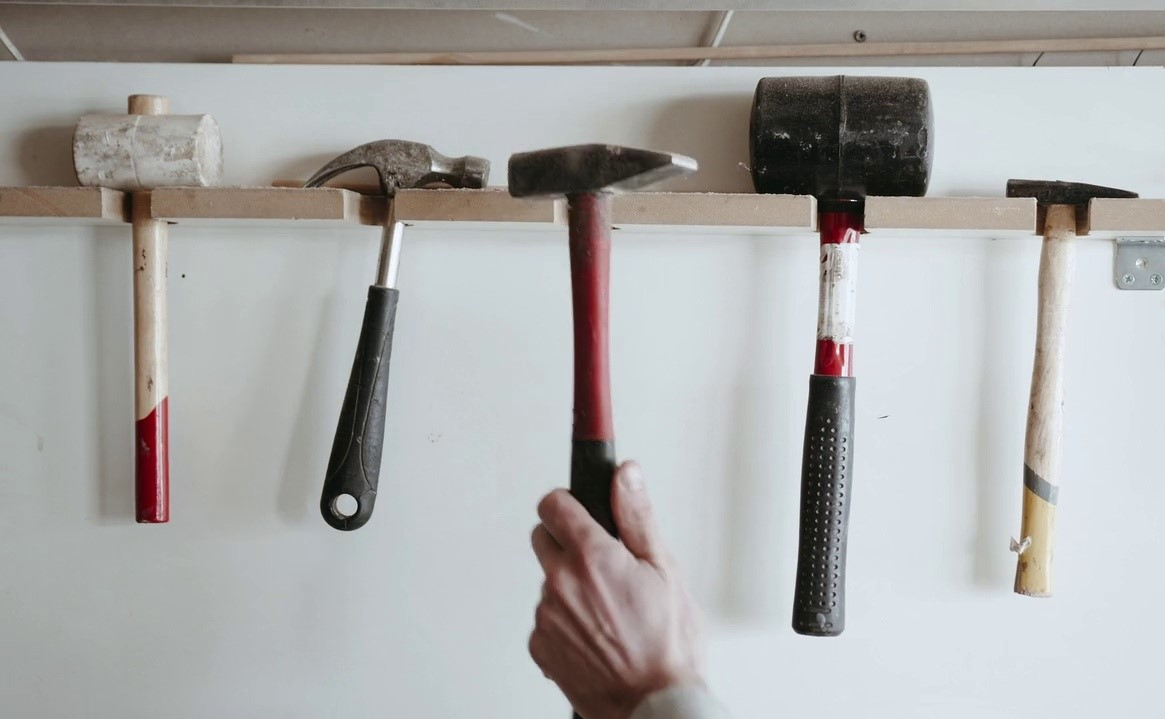hammer: (744, 68, 937, 640), (505, 141, 707, 546), (299, 137, 494, 536), (64, 91, 223, 528), (1001, 171, 1142, 600)
